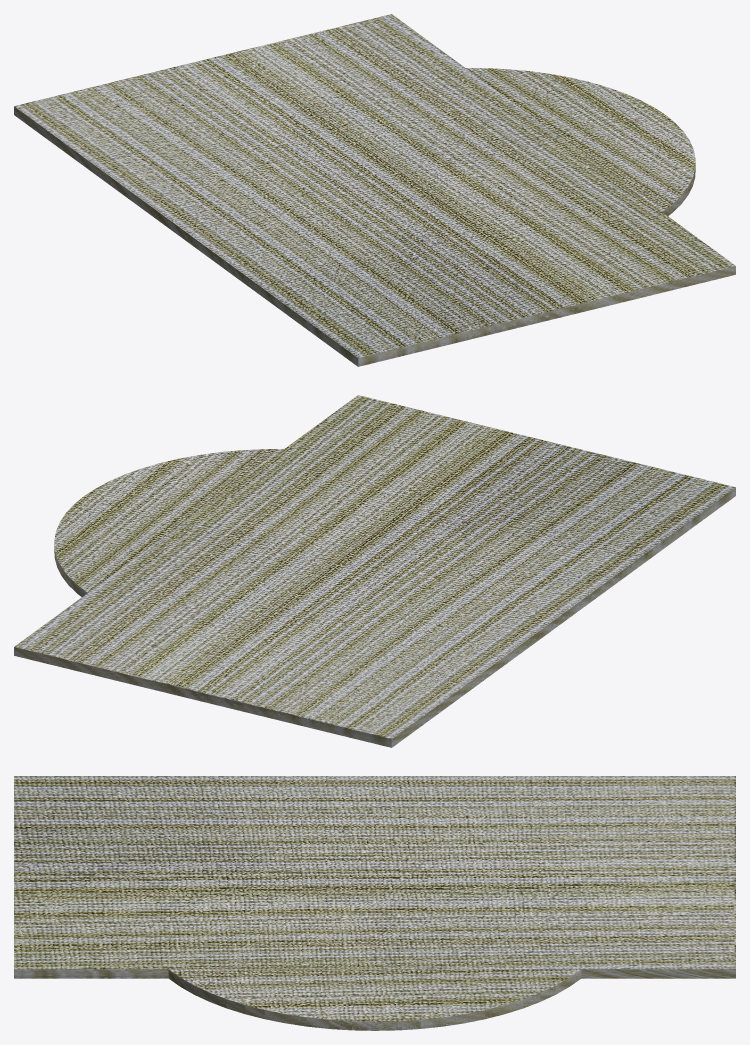
Rendered from ExihibitionSpace.dae.
3 views of the same model, one above another, from view 1: azimuth 30°, elevation 25°; view 2: azimuth 150°, elevation 25°; view 3: azimuth 270°, elevation 25° (orthographic). The views are drawn at different scales.
Parts seen in each view (by area): view 1: Cube; view 2: Cube; view 3: Cube.
Part boxes in pixels (bbox=[...]): Cube: bbox=[14, 14, 735, 366]; Cube: bbox=[14, 395, 735, 747]; Cube: bbox=[14, 776, 735, 1030].
Size of the model in its own units: 5.71 by 7.1 by 0.1.
1 material, 1 textured.
